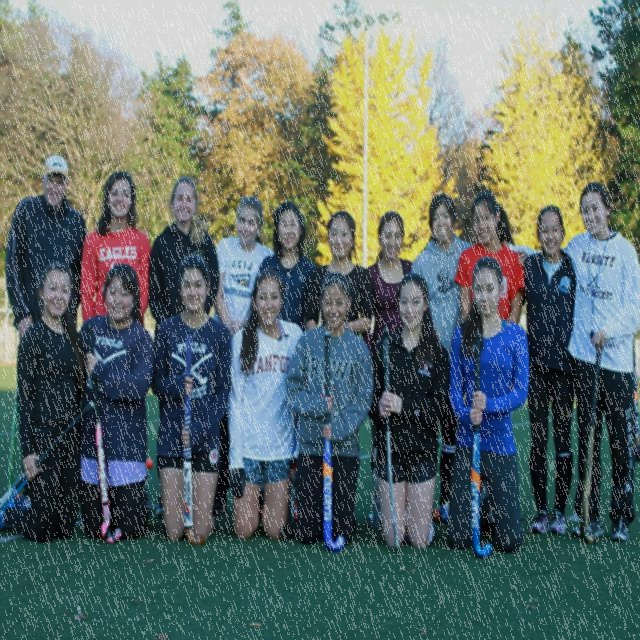pessoa: (501, 180, 638, 546), (144, 249, 233, 546), (282, 268, 376, 548), (360, 268, 452, 554), (444, 255, 532, 554), (0, 254, 89, 546), (223, 263, 305, 545), (76, 261, 154, 544), (409, 192, 474, 524), (524, 204, 580, 536), (5, 152, 89, 342), (78, 170, 152, 332), (147, 176, 220, 322), (453, 189, 527, 327), (302, 209, 374, 337), (210, 192, 274, 336), (255, 199, 317, 336), (363, 210, 414, 333)
